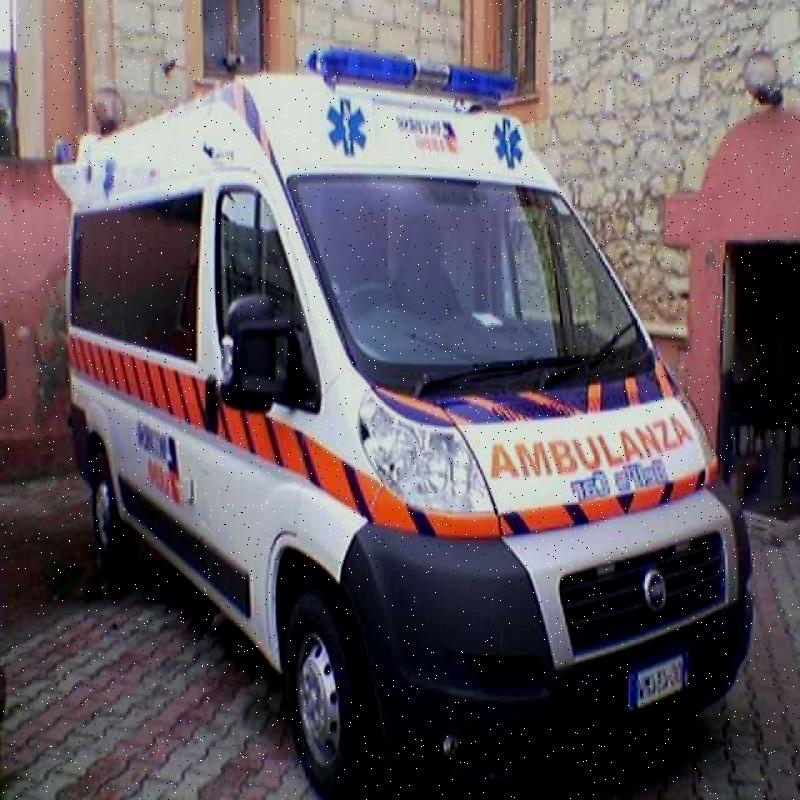AmbulanceSiren: (305, 39, 516, 120)
